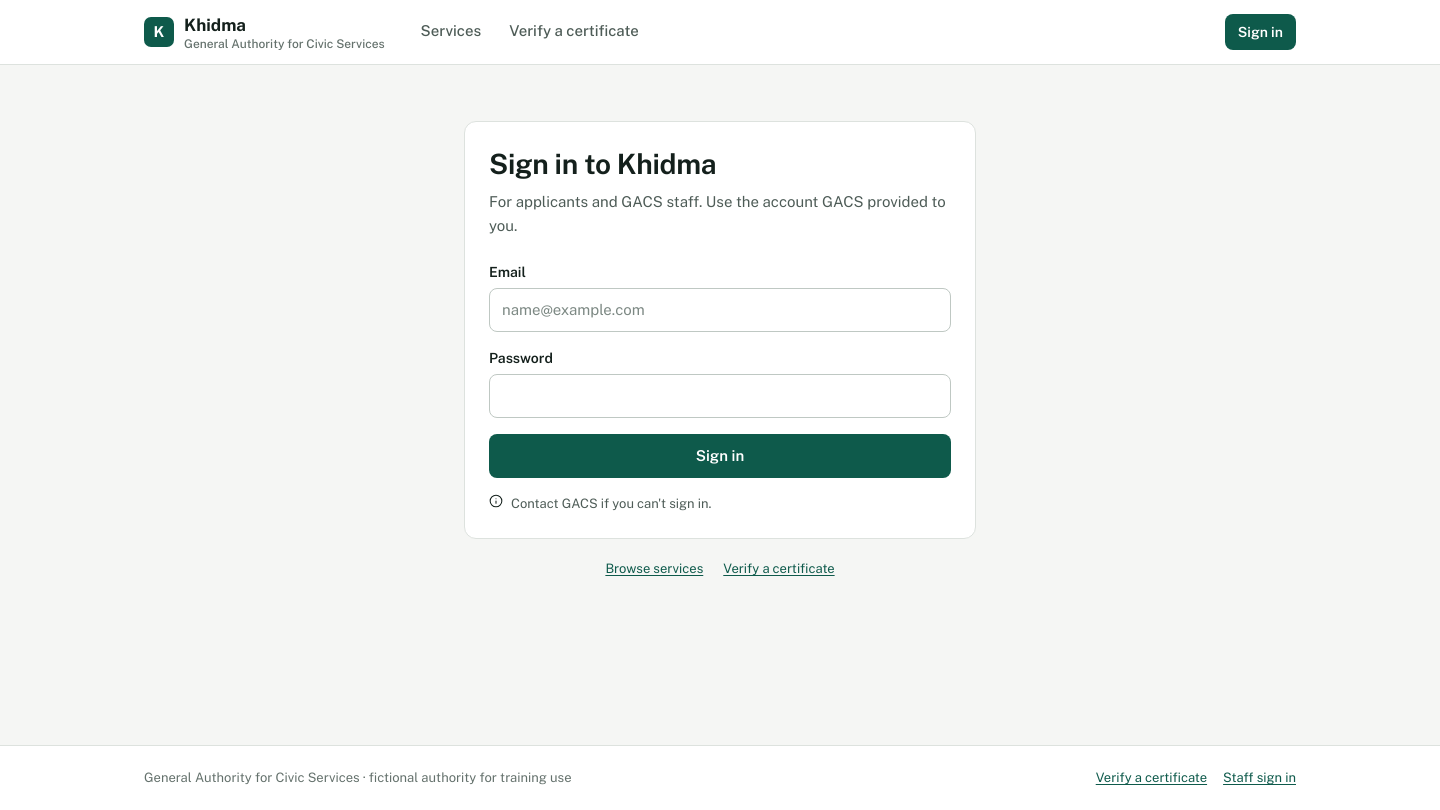
LoginPage › signs noura in and lands on Licensing queue
Type "noura@khidma.test" into the field labelled "Email". click: (720, 310)
box: [489, 288, 951, 332]
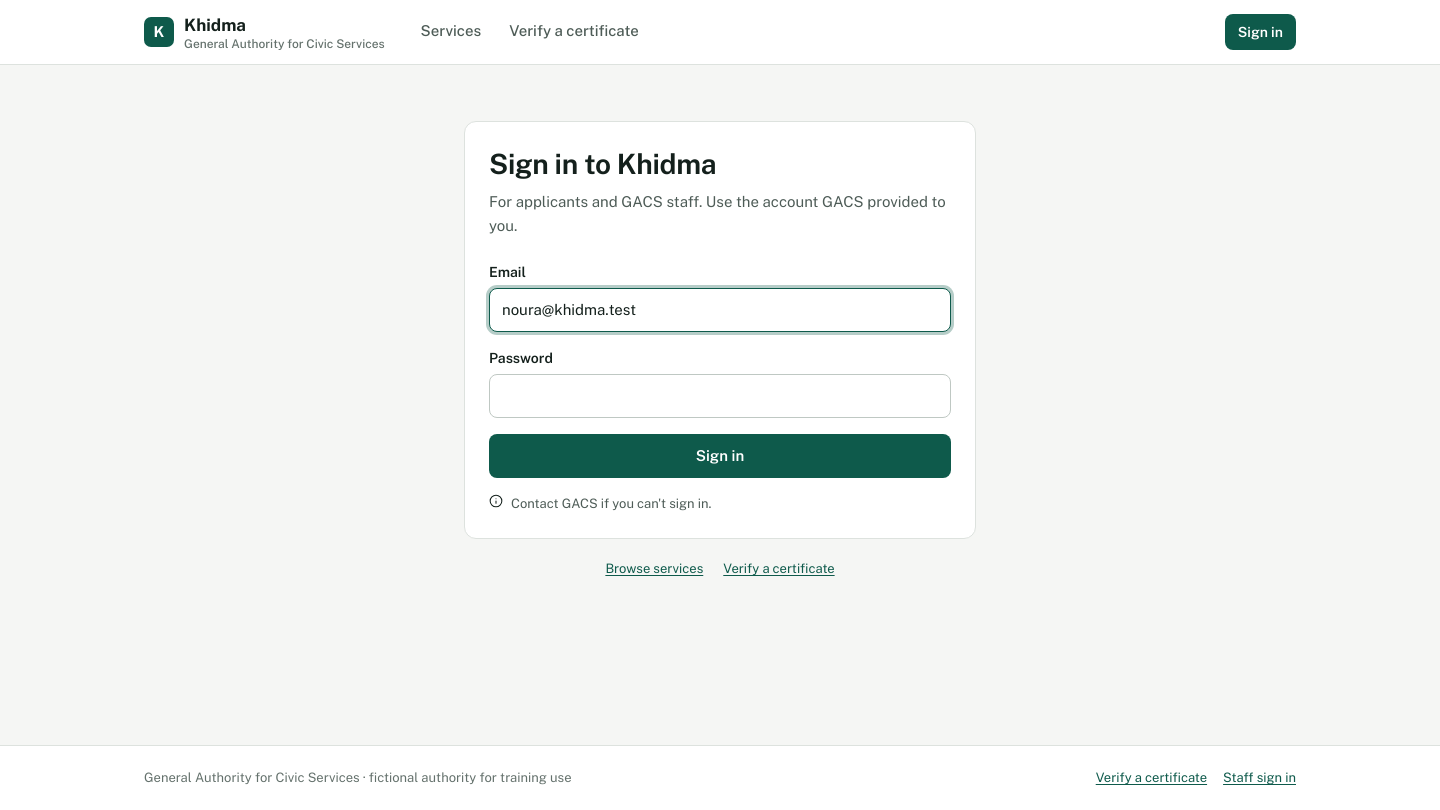
Type "Passw0rd!" into the password field labelled "Password". click: (720, 396)
box: [489, 374, 951, 418]
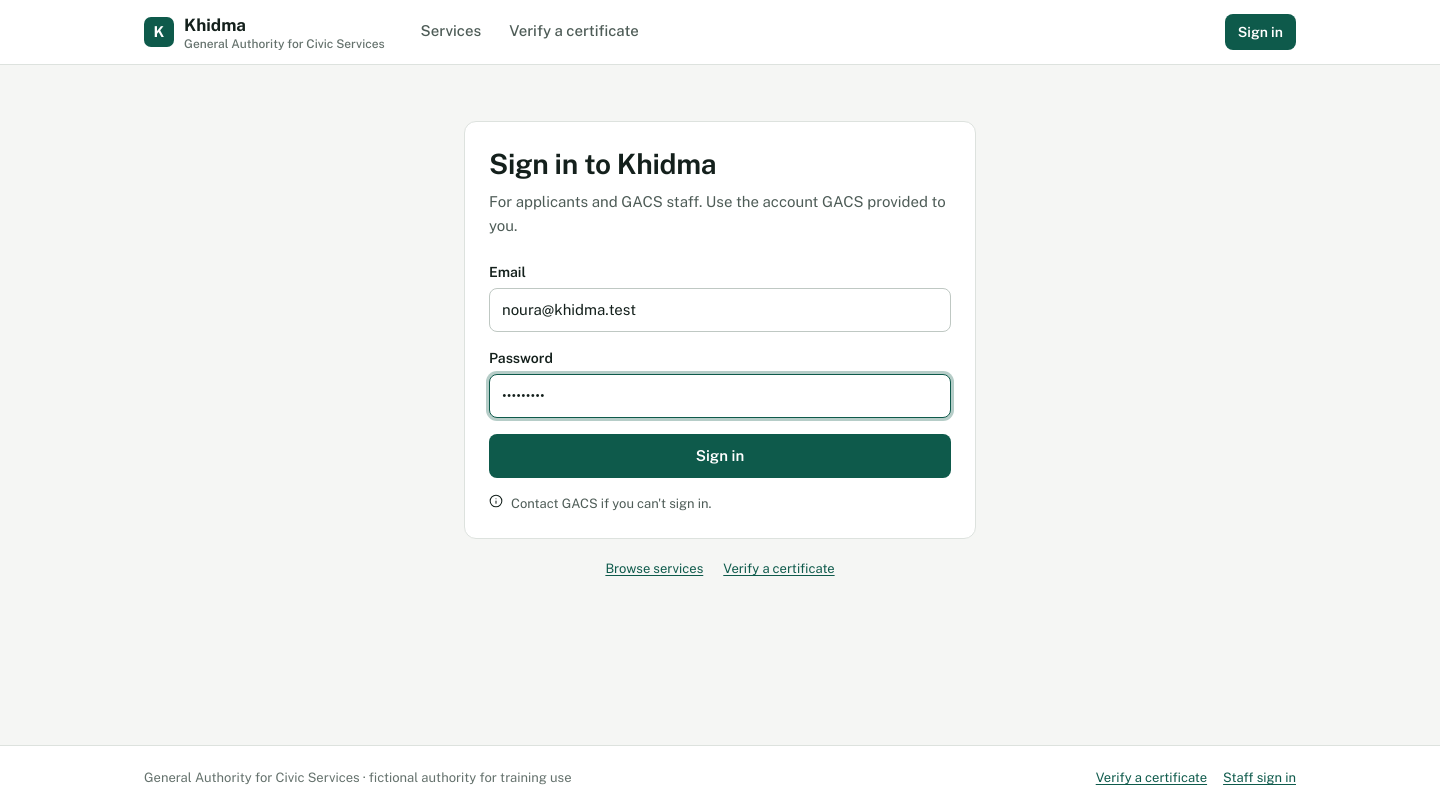
Click the button "Sign in". click: (720, 456)
box: [489, 434, 951, 478]
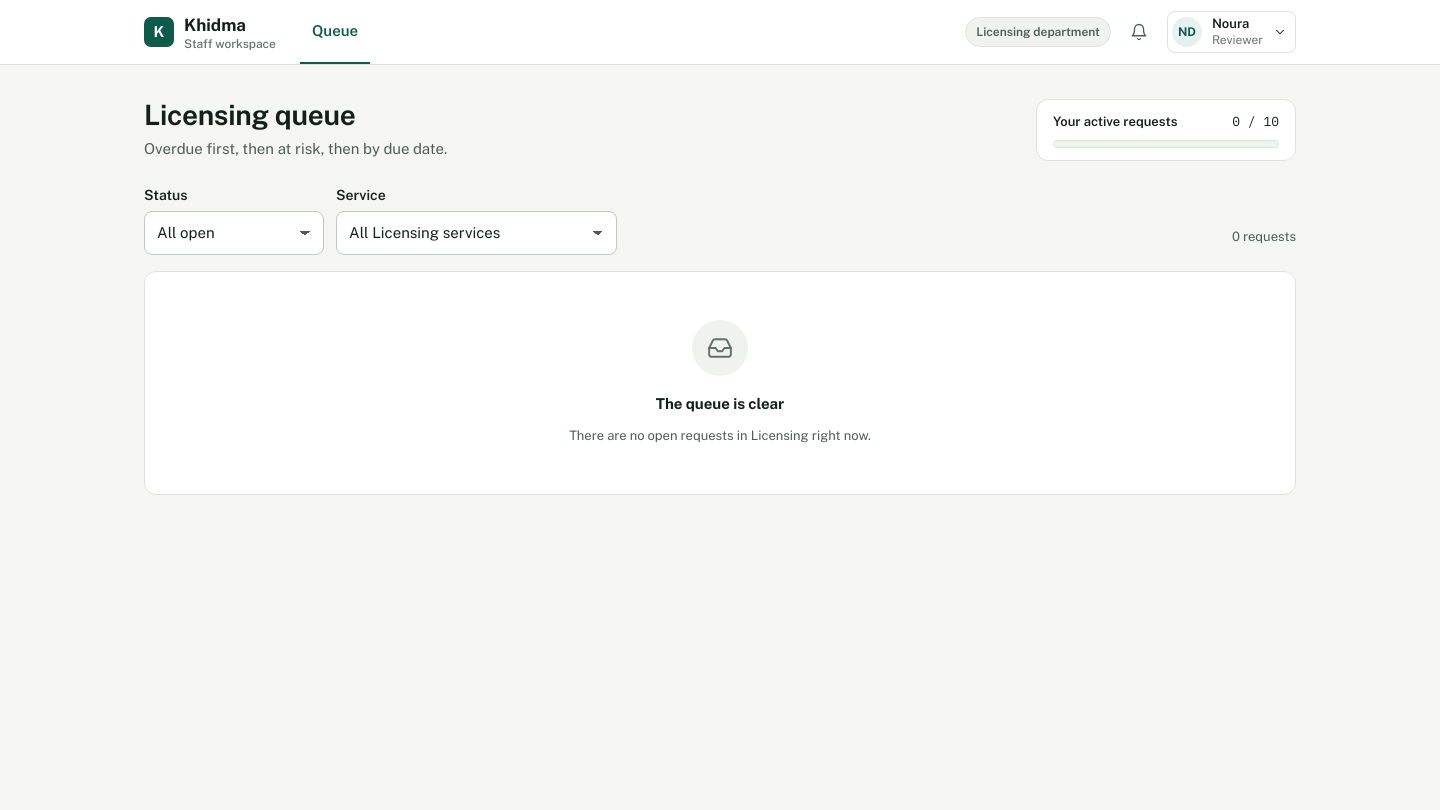
Result: the heading "Licensing queue" is shown at [144, 98, 356, 131]
